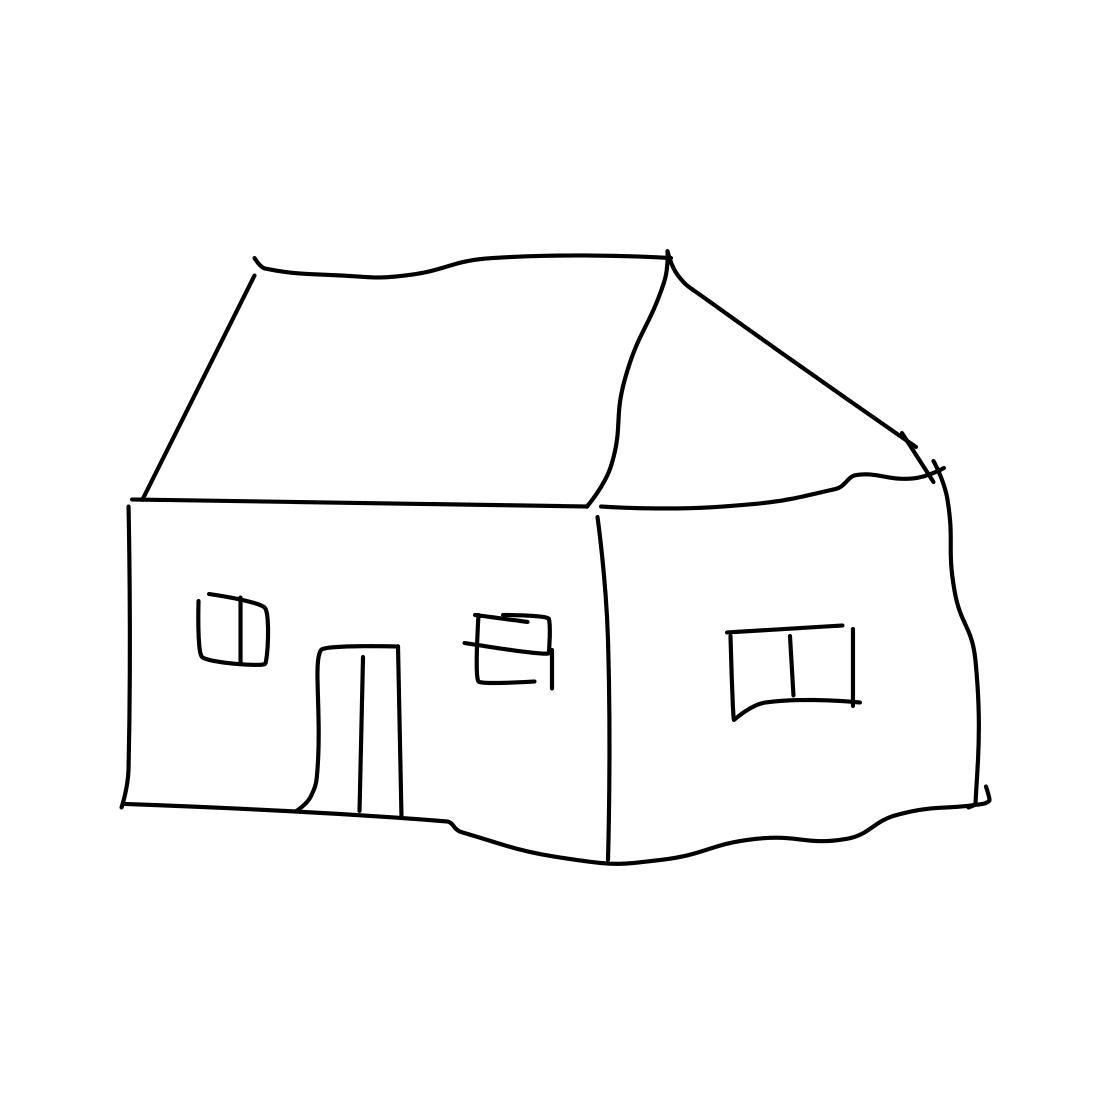House: (71, 193, 1041, 898)
